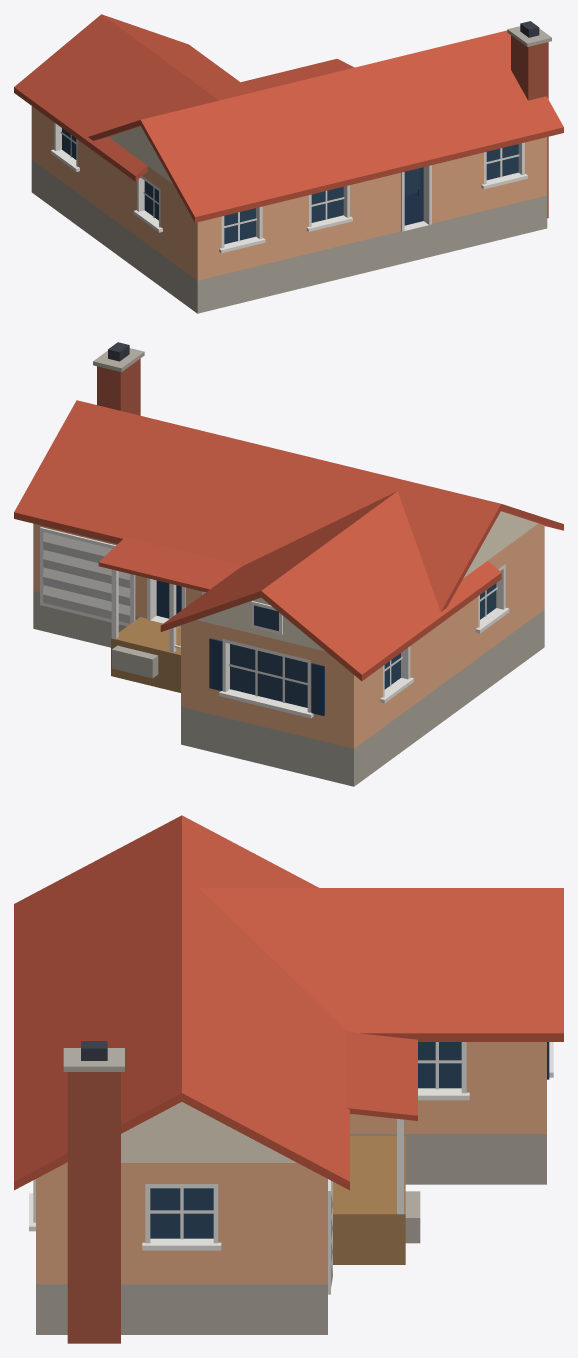
The model's file is house_c.glb.
3 renders of one model, top to bottom at view 1: azimuth 30°, elevation 25°; view 2: azimuth 150°, elevation 25°; view 3: azimuth 270°, elevation 25°, orthographic. The views are drawn at different scales.
Visible parts, largest first — view 1: Building, Building_Glass; view 2: Building, Building_Glass; view 3: Building, Building_Glass.
Boxes of the visible parts, <box> form: Building: <box>14,14,563,313</box>; Building_Glass: <box>62,128,518,244</box>; Building: <box>14,342,563,786</box>; Building_Glass: <box>230,583,496,707</box>; Building: <box>14,815,563,1343</box>; Building_Glass: <box>150,1042,461,1238</box>.
Bounding box in the file's own units: 13.76 × 6.6 × 11.3.
